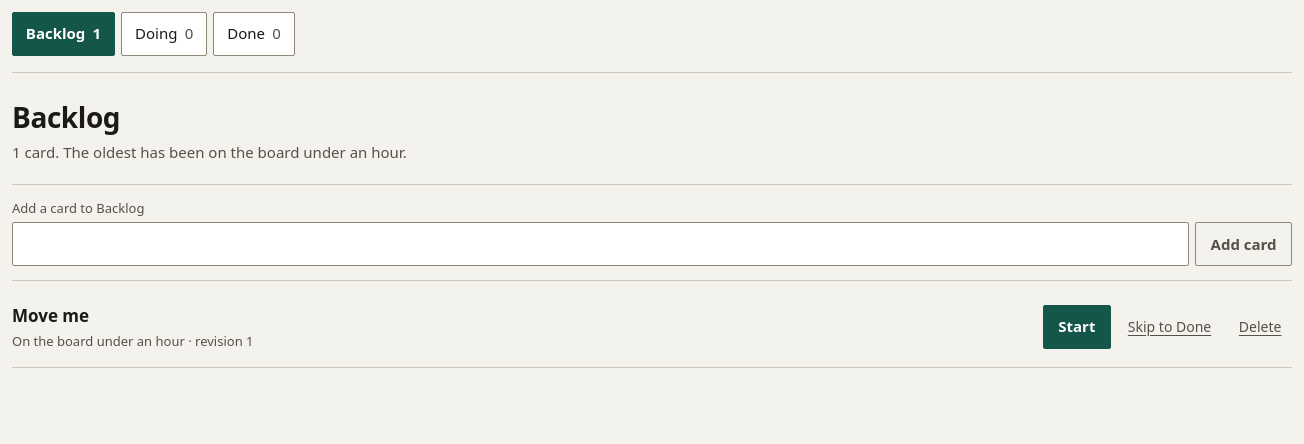
Test case: Board › reports a move the API refused for any other reason
Check: the text "Move me" is shown, box [12, 304, 89, 327]
Click the button named "Start: move \"Move me\" to Doing": (1077, 327) [1043, 305, 1111, 349]
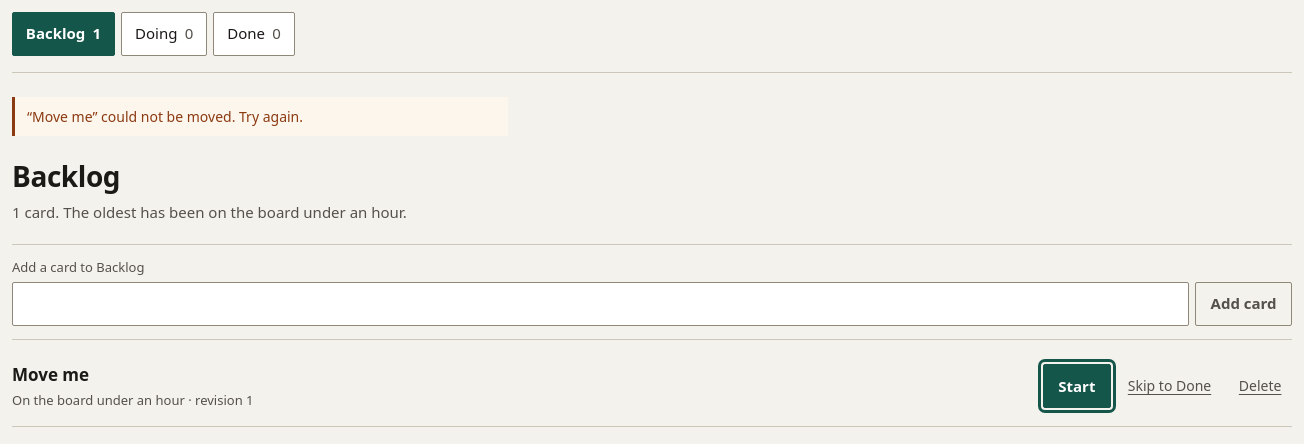
Check: the text "Move me" is shown, box [12, 364, 89, 386]
Check: the message shows "Move me", box [27, 107, 303, 126]
